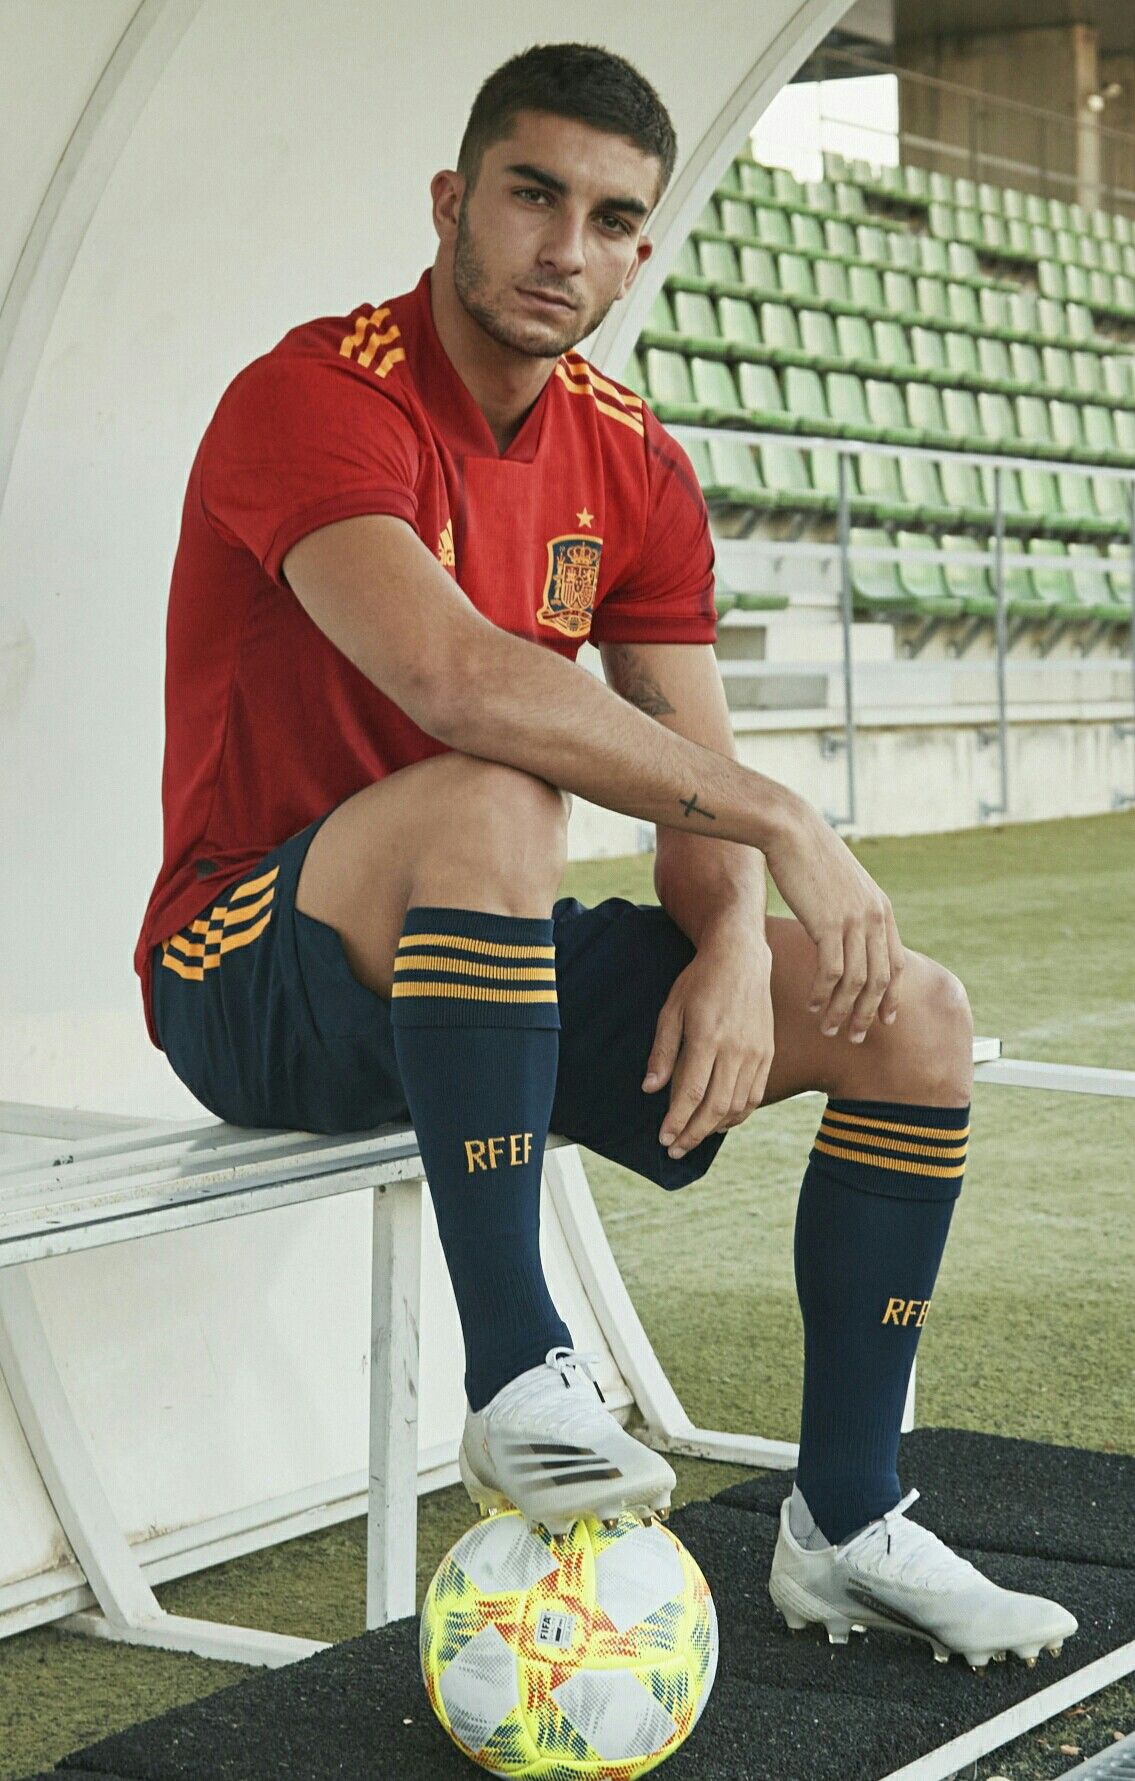football boots: (767, 1498, 1074, 1668), (458, 1360, 682, 1540)
